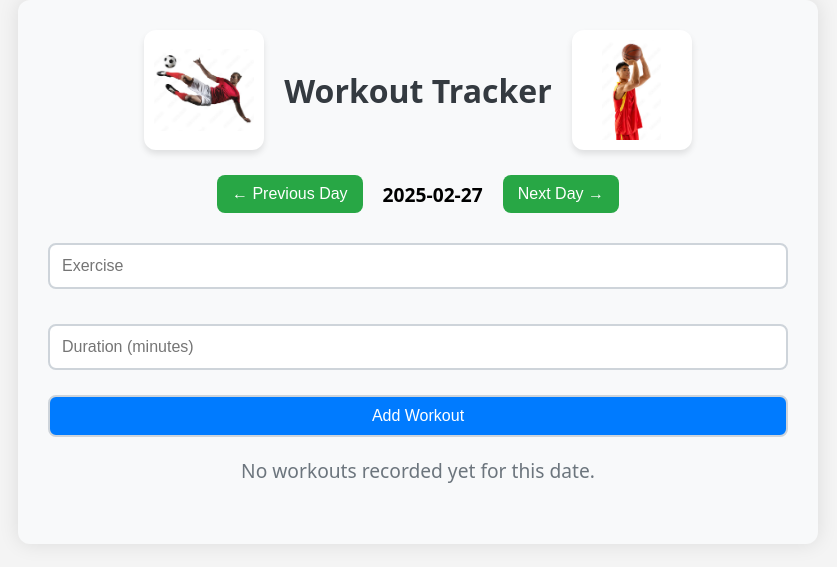
Test: WorkoutTracker Component › adds a workout
The width and height of the screenshot is (837, 567).
Note: Fill out the form
Type "Running" into the field with placeholder "Exercise" at (418, 266), box left=48, top=243, right=788, bottom=289
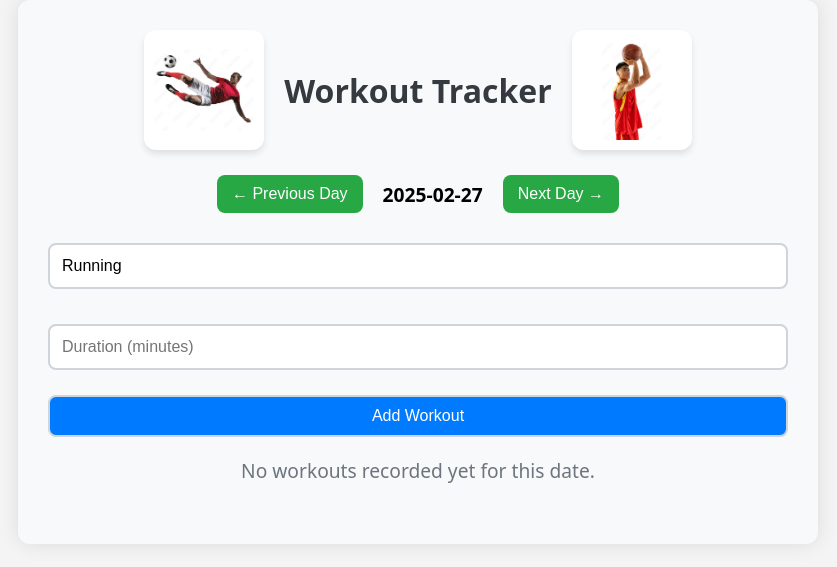
Type "30" into the number field with placeholder "Duration (minutes)" at (418, 347), box left=48, top=324, right=788, bottom=370
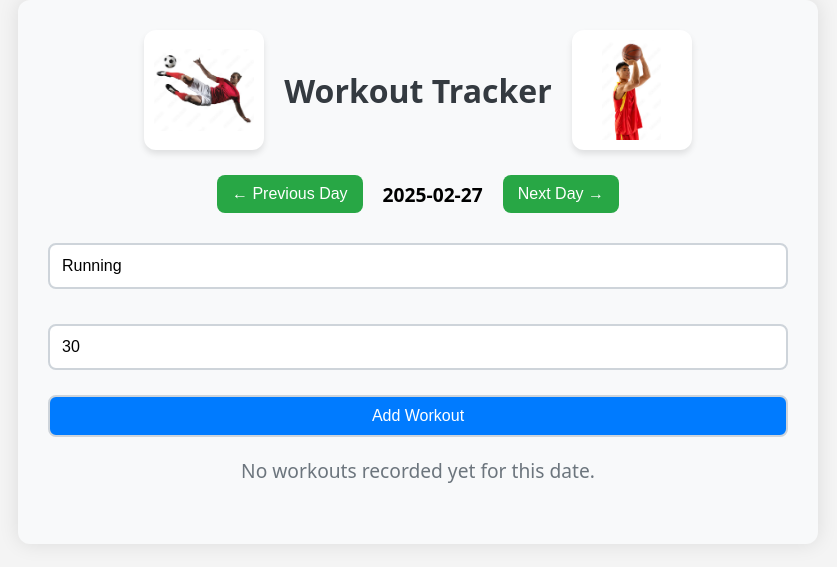
Note: Add the workout
Click the button "Add Workout" at (418, 416), box left=48, top=395, right=788, bottom=437
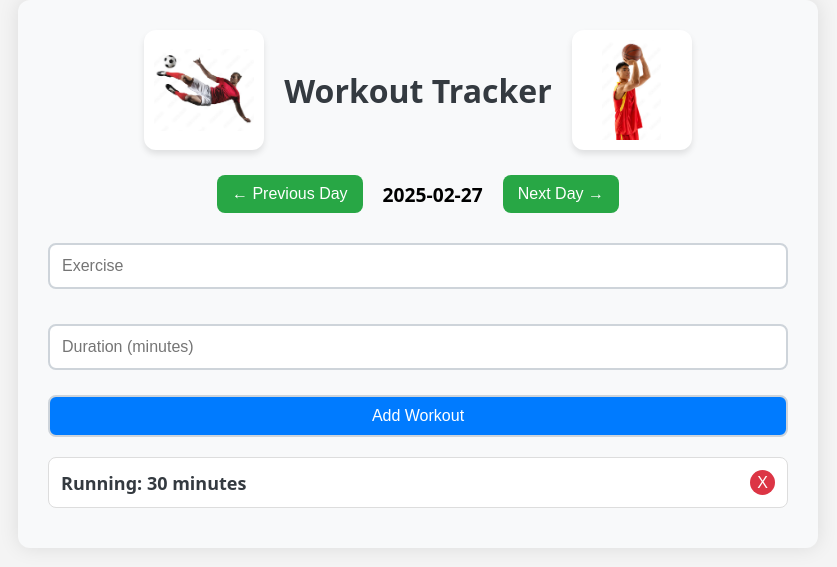
Now the text "Running: 30 minutes" is shown, box left=61, top=470, right=246, bottom=494
Now the text "No workouts recorded yet for this date." is gone
